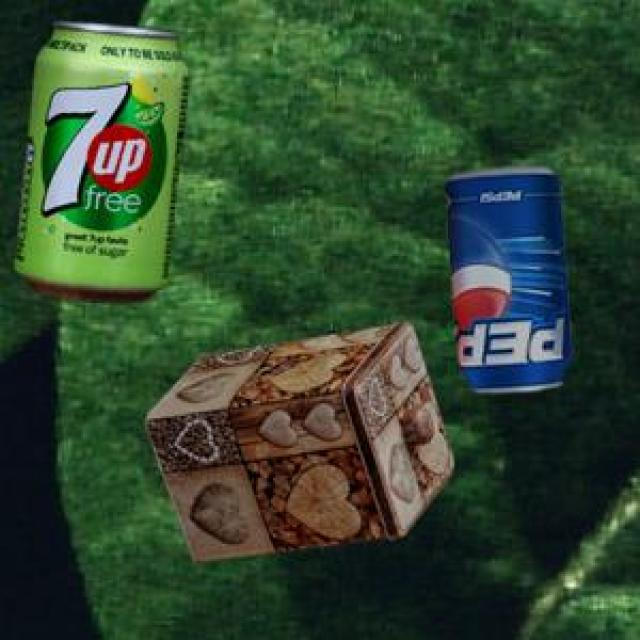logam: (142, 319, 449, 560), (12, 18, 187, 300), (443, 165, 566, 389)
